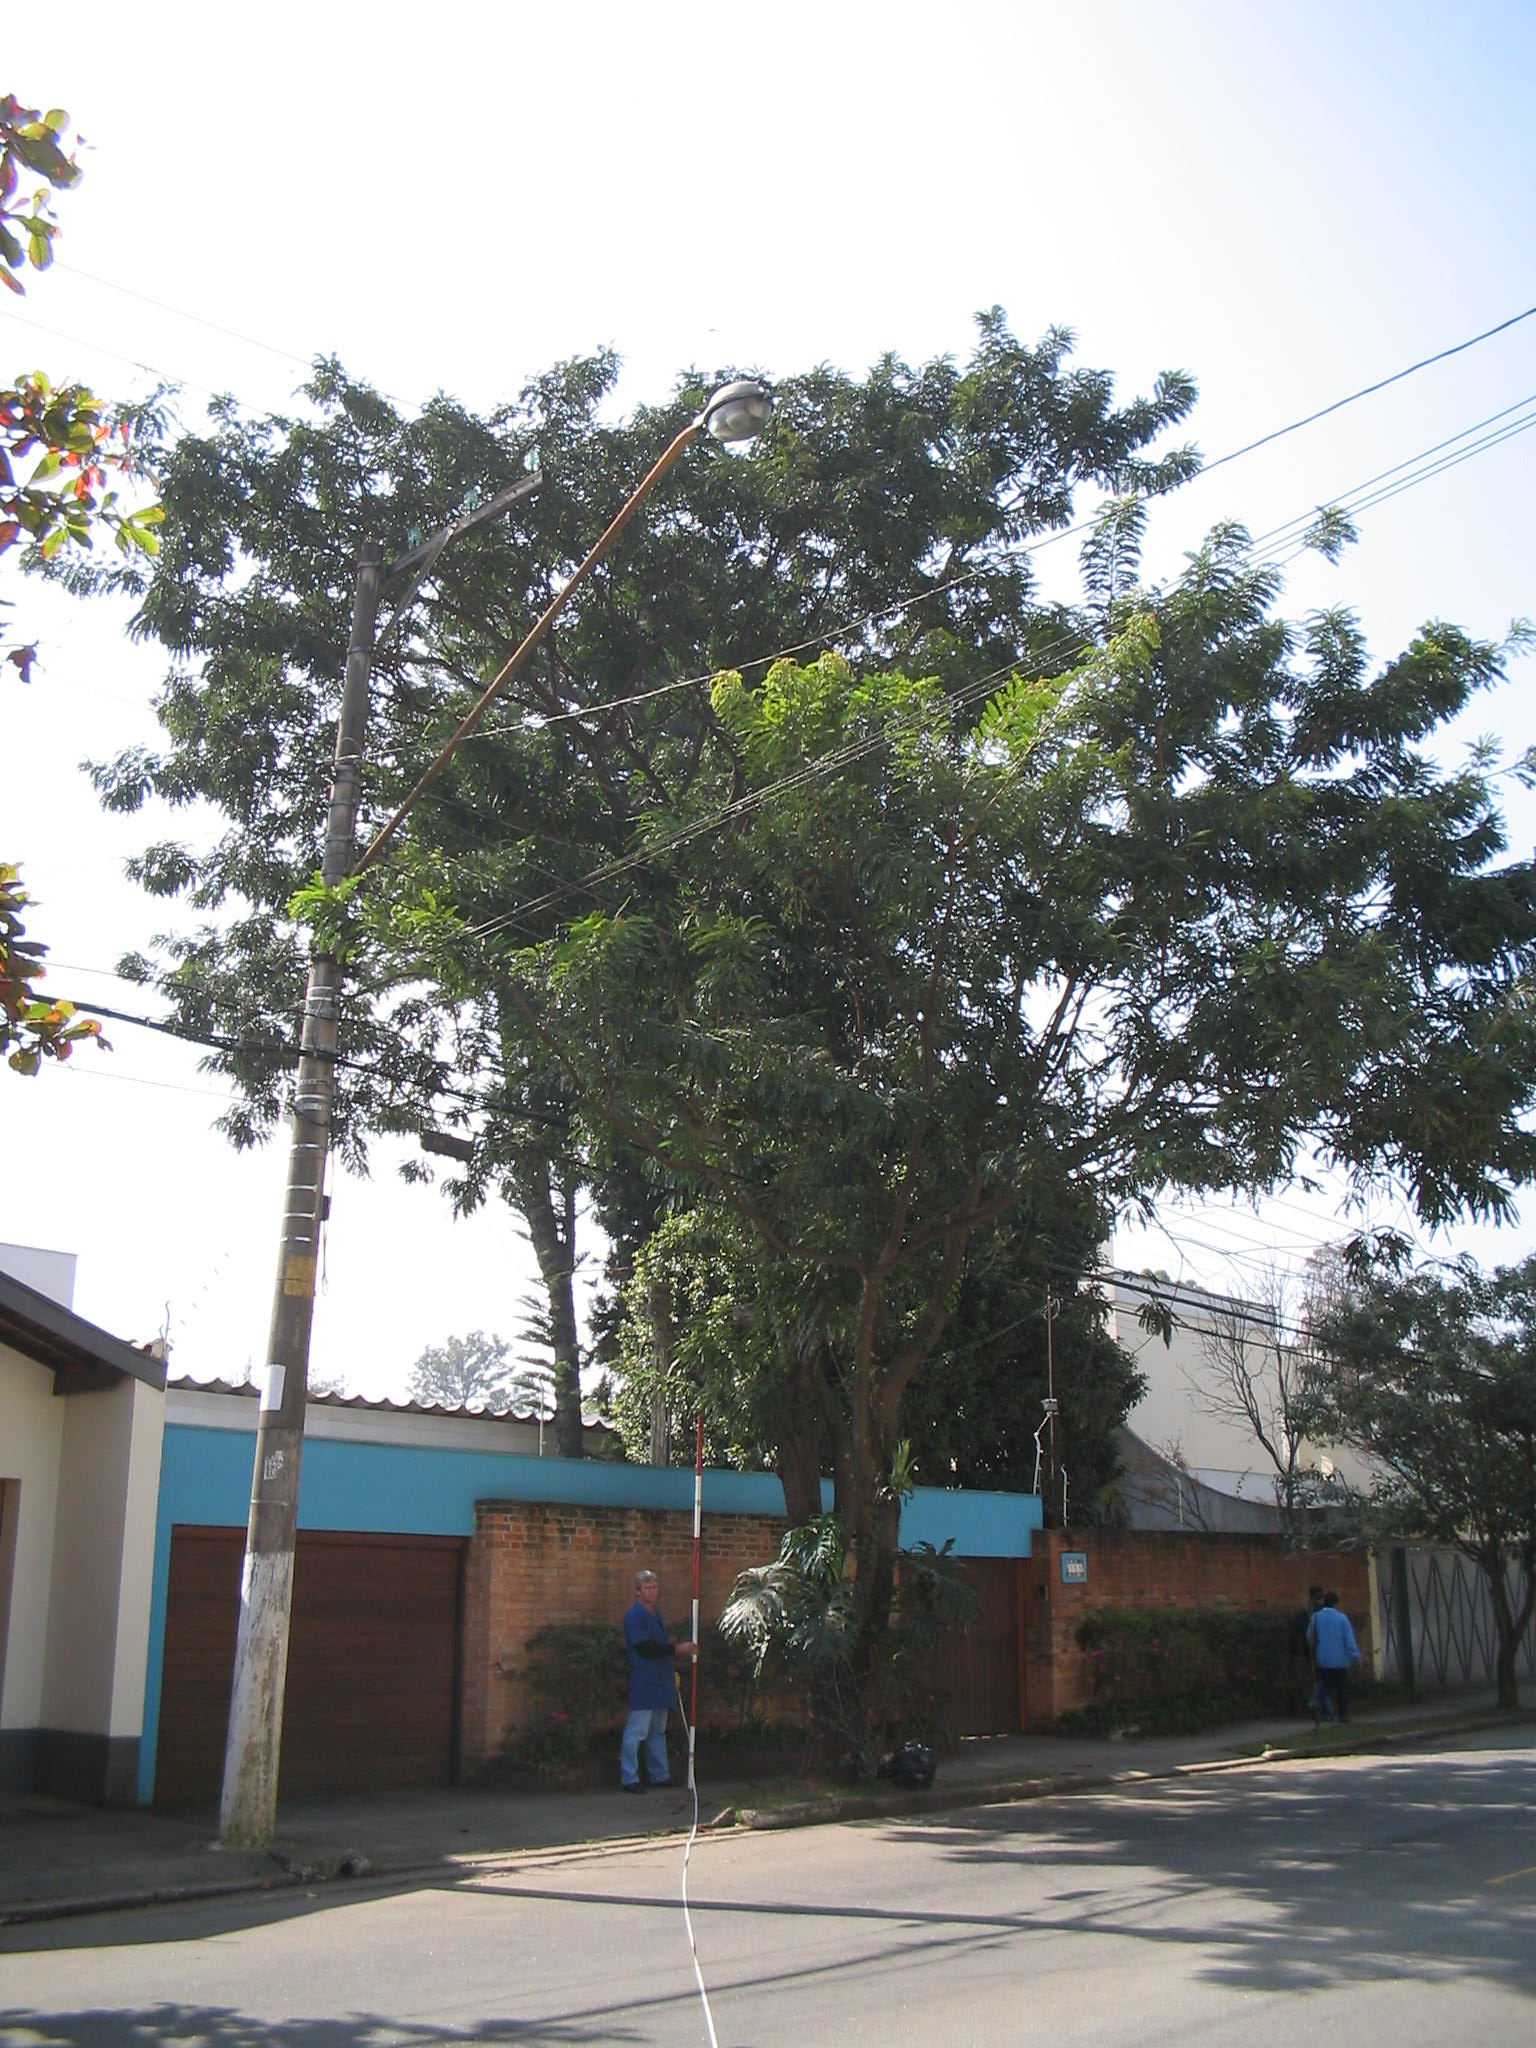crown: (29, 311, 1521, 1406)
stem: (766, 1609, 945, 1790)
stick: (674, 1414, 718, 1804)
tree: (19, 305, 1526, 1793)
